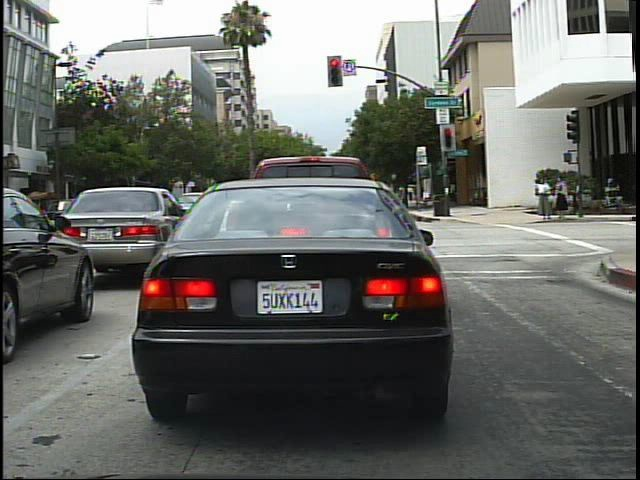person: (536, 171, 557, 223), (554, 172, 572, 226)
